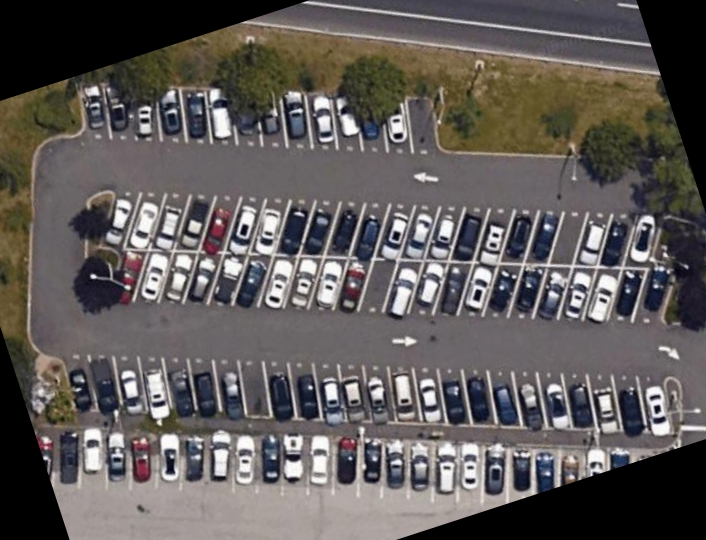parkingspot: (93, 185, 679, 329), (54, 351, 675, 438), (32, 424, 661, 505), (73, 79, 444, 158)
